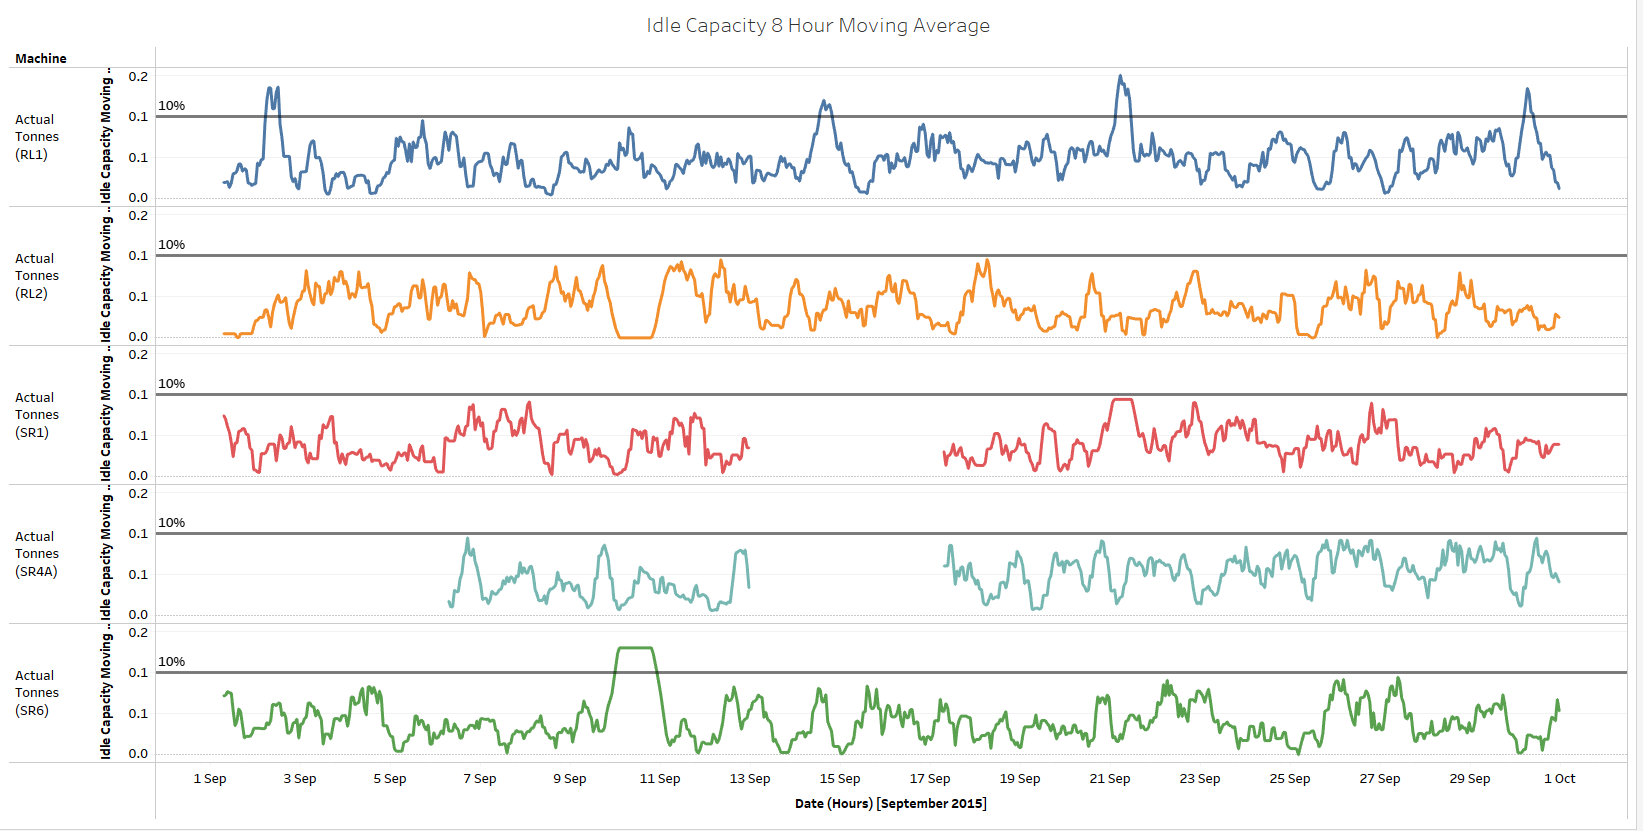

This screenshot's page, from the dashboard's own definition file:
{"tool":"tableau","page":{"name":"Summary Dashboard","canvas":[1000,1000],"units":"permille","ordinal":6},"visuals":[{"type":"worksheet","title":"Analysis","mark":"Automatic","rows":["Pivot Field Names","Calculation_137078318876909568"],"cols":["Datetime"],"box":[8.9,14.6,982.2,970.9]}]}

Visuals, with their boxes on the dashboard's canvas, which has no fixed pixel size, in thousandths of its width and height (x1, y1, x2, y2). These are canvas units, not pixel positions in the 1643x831 screenshot, which may show the page scaled, cropped or inside an application window:
"Analysis" worksheet: x1=9 y1=15 x2=991 y2=986
